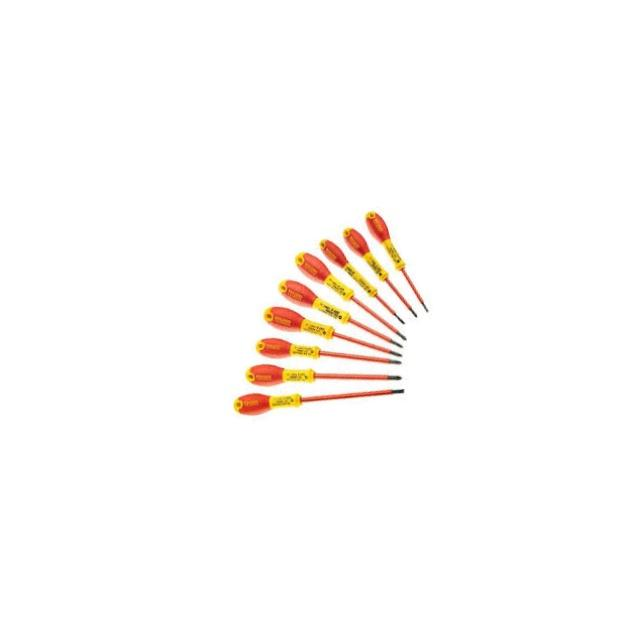screwdriver: (258, 275, 406, 388), (274, 252, 406, 375), (292, 230, 410, 364), (251, 302, 405, 400), (242, 328, 404, 419), (230, 354, 406, 436), (318, 222, 407, 340), (341, 215, 419, 332), (362, 200, 430, 322)
